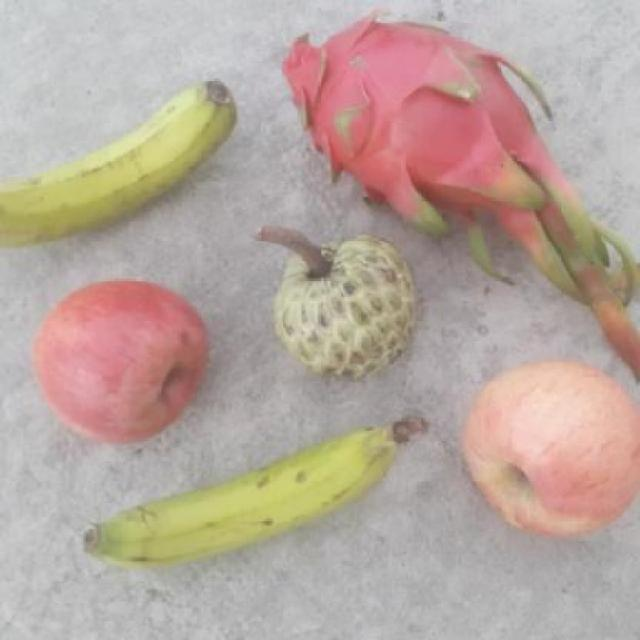apple: (459, 354, 639, 552), (28, 275, 210, 447)
banana: (73, 411, 425, 577), (0, 76, 235, 252)
dragon fruit: (284, 12, 538, 240)
sugar apple: (265, 234, 424, 388)
